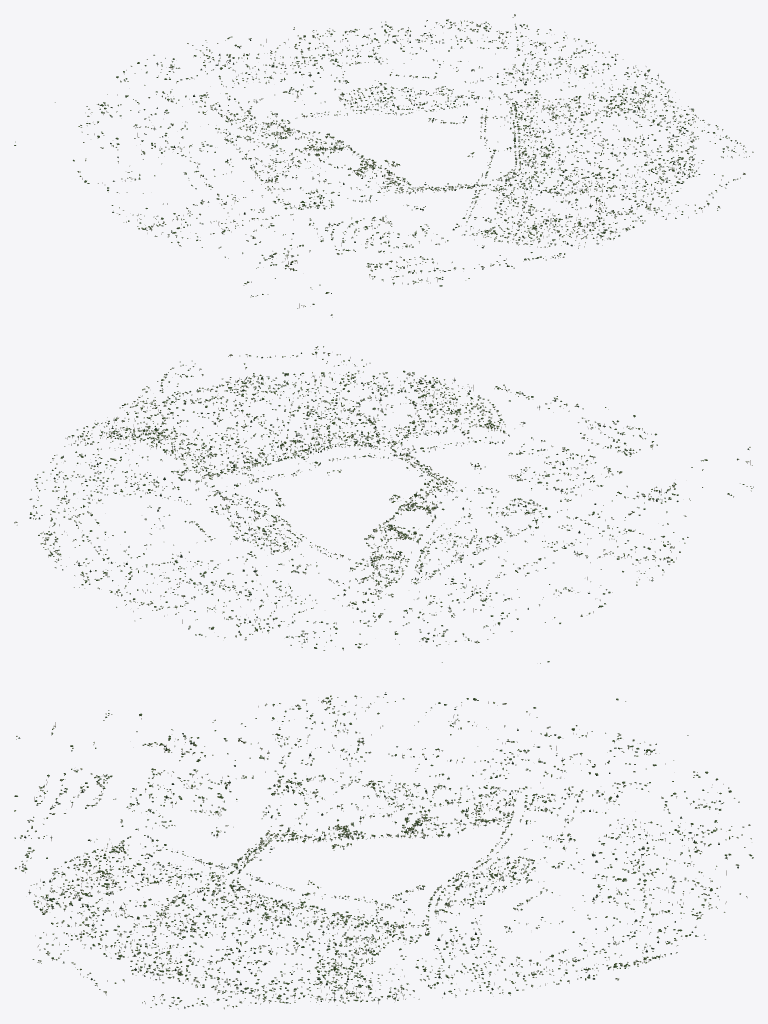
The model's file is scg_backdrop_part2.glb.
3 renders of one model, top to bottom at view 1: azimuth 30°, elevation 25°; view 2: azimuth 150°, elevation 25°; view 3: azimuth 270°, elevation 25°, orthographic. The views are drawn at different scales.
Visible parts, largest first — view 1: bg_trees_joined_s11, bg_trees_joined_s10, bg_trees_joined_s12, bg_trees_joined_s14, bg_trees_joined_s13, bg_trees_joined_s09, bg_trees_joined_s08, bg_trees_joined_s07, bg_trees_joined_s15, bg_trees_joined_s01, bg_trees_joined_s05; view 2: bg_trees_joined_s11, bg_trees_joined_s10, bg_trees_joined_s12, bg_trees_joined_s09, bg_trees_joined_s14, bg_trees_joined_s13, bg_trees_joined_s08, bg_trees_joined_s07, bg_trees_joined_s15, bg_trees_joined_s05, bg_trees_joined_s01; view 3: bg_trees_joined_s11, bg_trees_joined_s10, bg_trees_joined_s12, bg_trees_joined_s13, bg_trees_joined_s14, bg_trees_joined_s09, bg_trees_joined_s08, bg_trees_joined_s07, bg_trees_joined_s15, bg_trees_joined_s01, bg_trees_joined_s05, bg_trees_joined_s00 (+3 smaller).
Part boxes in pixels (x1,y1,x2,y2): bg_trees_joined_s11: (512, 74, 753, 185); bg_trees_joined_s10: (470, 162, 726, 260); bg_trees_joined_s12: (425, 14, 650, 111); bg_trees_joined_s14: (55, 37, 307, 129); bg_trees_joined_s13: (231, 19, 461, 87); bg_trees_joined_s09: (297, 206, 533, 317); bg_trees_joined_s08: (112, 184, 334, 297); bg_trees_joined_s07: (238, 129, 355, 178); bg_trees_joined_s15: (14, 112, 243, 212); bg_trees_joined_s01: (353, 160, 440, 207); bg_trees_joined_s05: (315, 81, 414, 115); bg_trees_joined_s11: (76, 354, 322, 474); bg_trees_joined_s10: (267, 346, 523, 452); bg_trees_joined_s12: (14, 435, 226, 550); bg_trees_joined_s09: (455, 395, 752, 490); bg_trees_joined_s14: (199, 565, 446, 662); bg_trees_joined_s13: (43, 524, 282, 635); bg_trees_joined_s08: (510, 482, 753, 580); bg_trees_joined_s07: (376, 517, 495, 571); bg_trees_joined_s15: (411, 551, 652, 663); bg_trees_joined_s05: (230, 517, 315, 561); bg_trees_joined_s01: (389, 463, 499, 507); bg_trees_joined_s11: (90, 901, 385, 1009); bg_trees_joined_s10: (14, 852, 259, 977); bg_trees_joined_s12: (385, 903, 646, 1000); bg_trees_joined_s13: (520, 847, 753, 963); bg_trees_joined_s14: (509, 735, 752, 858); bg_trees_joined_s09: (14, 722, 237, 856); bg_trees_joined_s08: (103, 692, 385, 795); bg_trees_joined_s07: (385, 780, 505, 838); bg_trees_joined_s15: (385, 694, 644, 795); bg_trees_joined_s01: (217, 805, 353, 853); bg_trees_joined_s05: (452, 847, 551, 892); bg_trees_joined_s00: (277, 780, 385, 839).
Bounding box in the file's own units: 3009 × 95.75 × 2985.
1 material, 1 textured.
